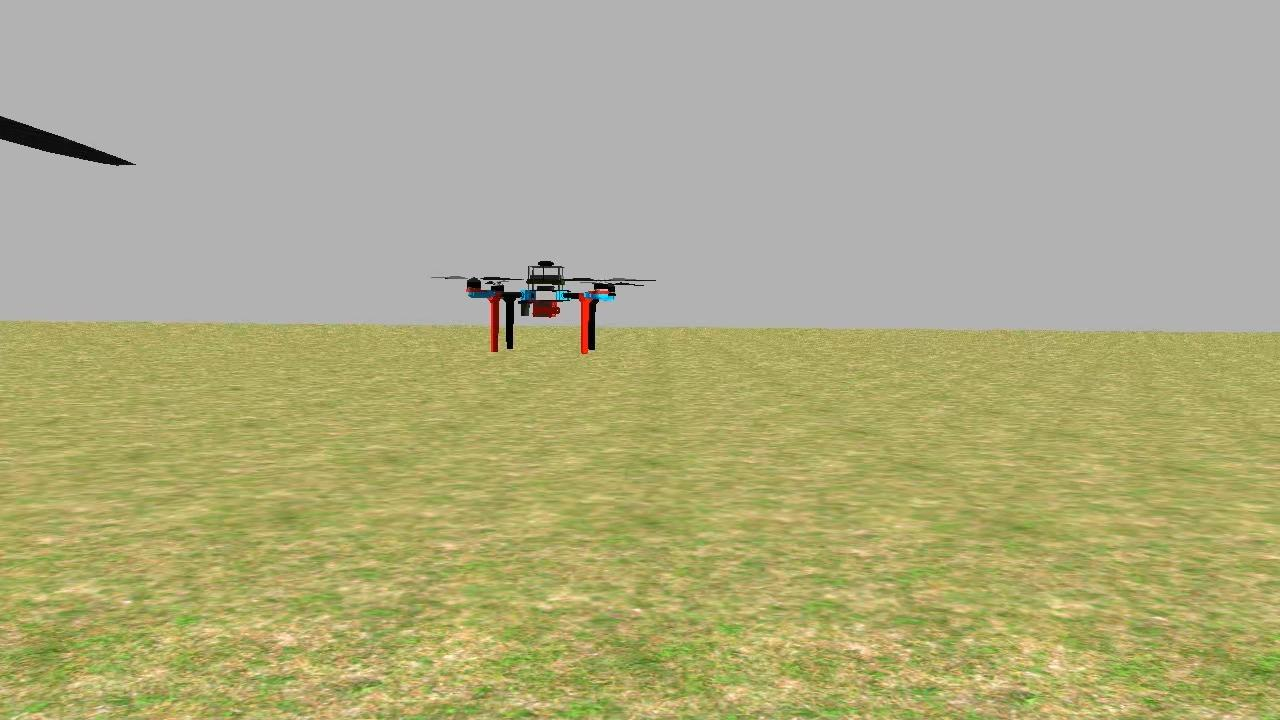UAV: (458, 256, 622, 360)
